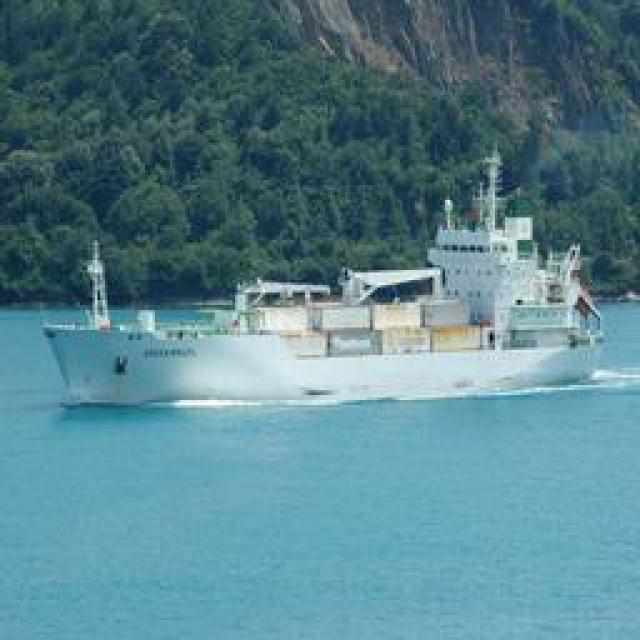Ship: (45, 231, 613, 416)
